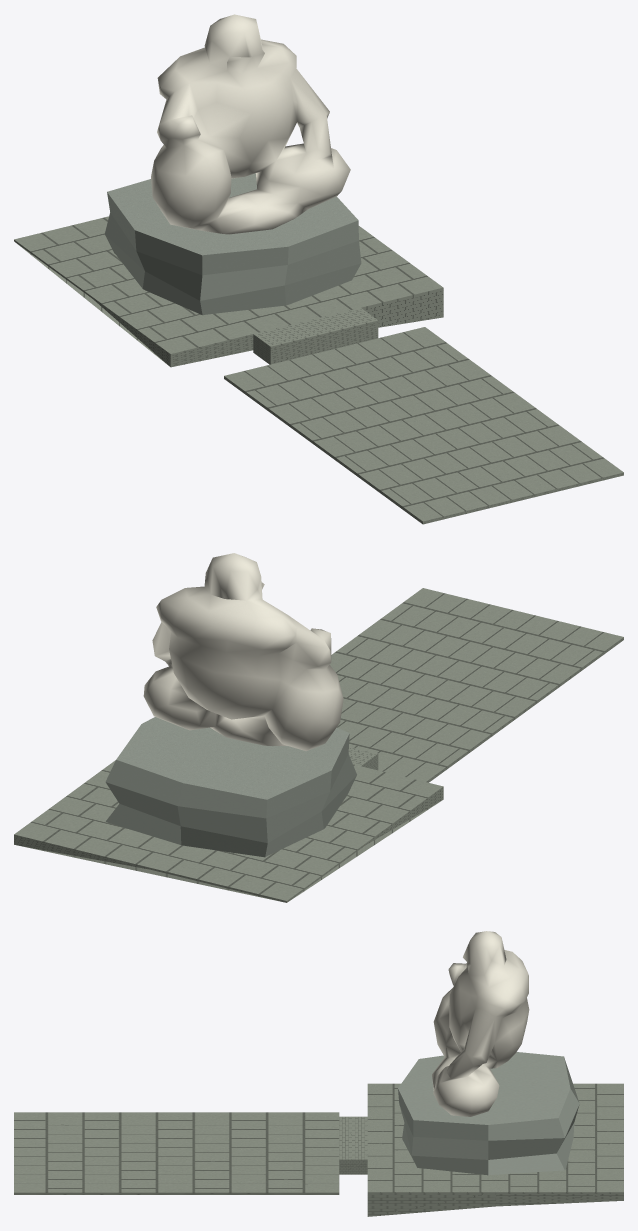
Rendered from nui-cam-maitreya-lod.glb.
The picture shows the model from 3 angles, top to bottom: view 1: azimuth 30°, elevation 25°; view 2: azimuth 150°, elevation 25°; view 3: azimuth 270°, elevation 25°; orthographic projection. The views are drawn at different scales.
Parts seen in each view (by area): view 1: nui-cam-maitreya-far-rock-face-robe, nui-cam-maitreya-far-connected-body; view 2: nui-cam-maitreya-far-rock-face-robe, nui-cam-maitreya-far-connected-body; view 3: nui-cam-maitreya-far-rock-face-robe, nui-cam-maitreya-far-connected-body.
Boxes of the visible parts, bbox=[...] form: nui-cam-maitreya-far-rock-face-robe: bbox=[14, 173, 623, 524]; nui-cam-maitreya-far-connected-body: bbox=[151, 14, 350, 234]; nui-cam-maitreya-far-rock-face-robe: bbox=[14, 588, 623, 902]; nui-cam-maitreya-far-connected-body: bbox=[143, 553, 343, 751]; nui-cam-maitreya-far-rock-face-robe: bbox=[14, 1052, 623, 1216]; nui-cam-maitreya-far-connected-body: bbox=[432, 931, 529, 1116].
Bounding box in the file's own units: 38 × 37.68 × 90.
Materials: 1 (1 with a texture image).
